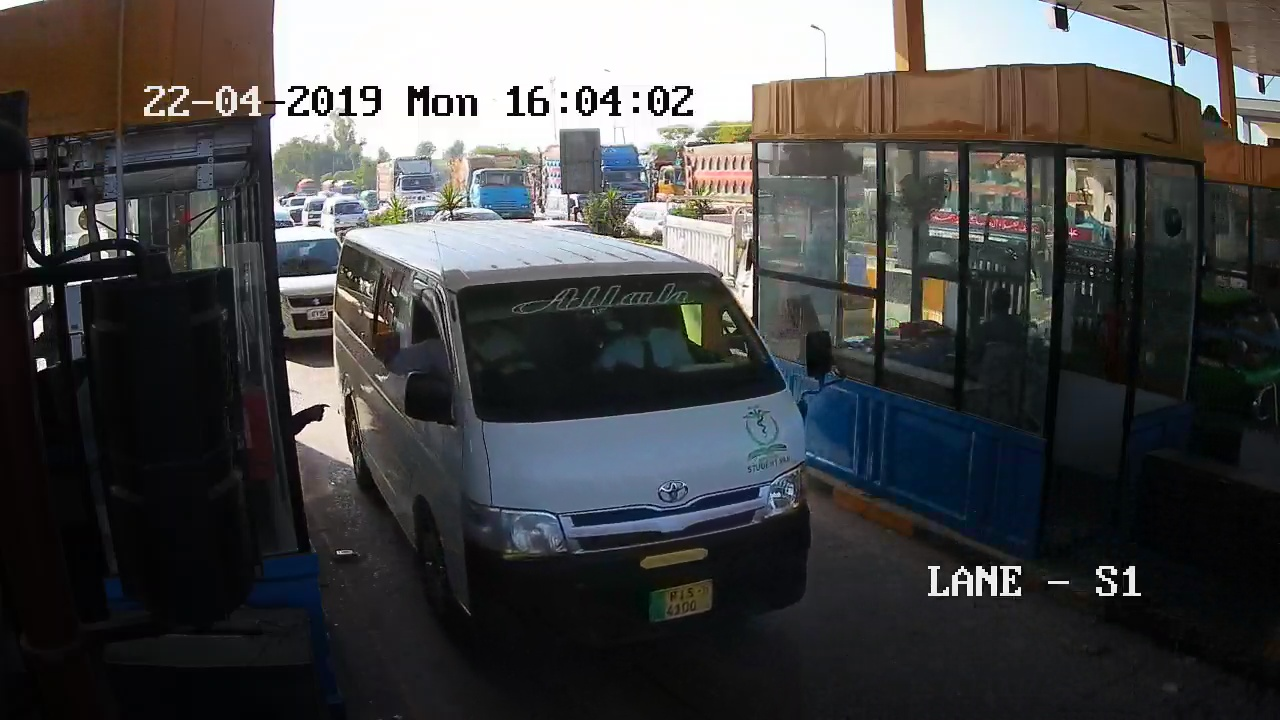Number Plate (Car): (650, 583, 715, 620)
